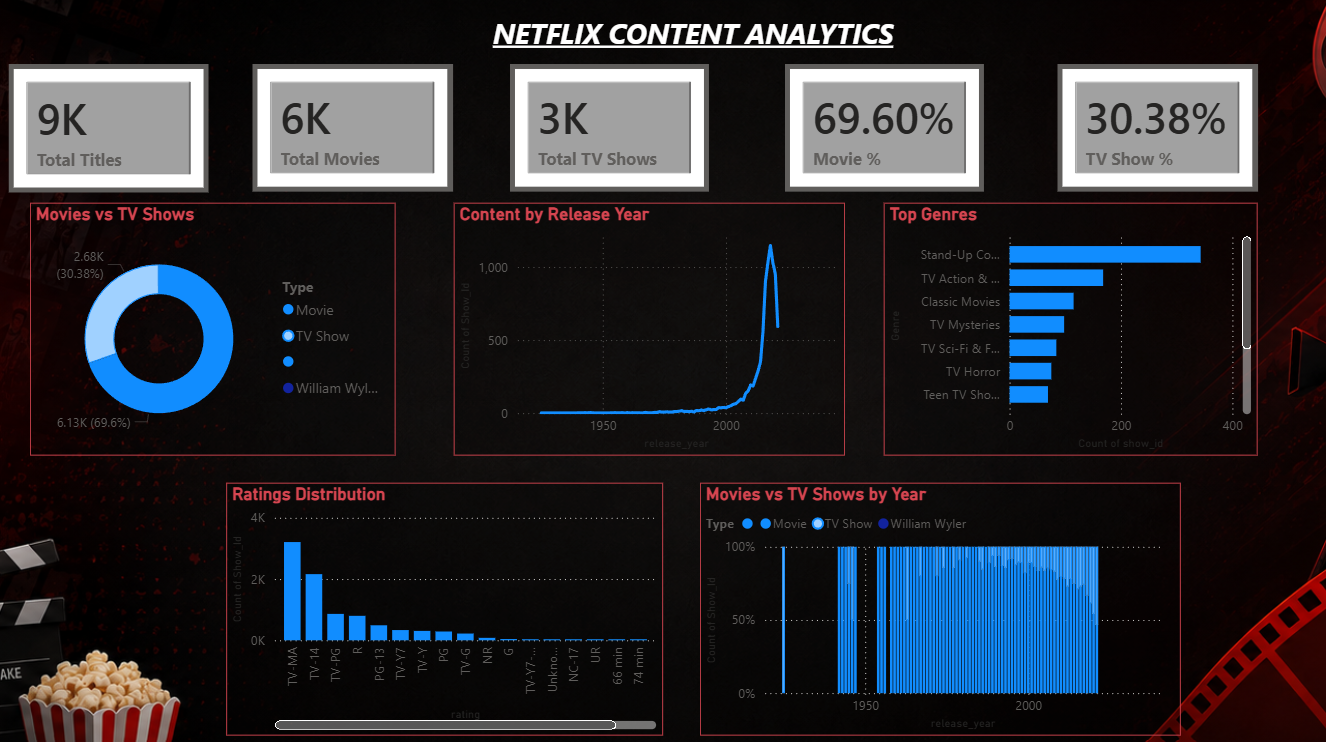

Layout of this report page (visuals, bound fields, positions):
{"tool":"powerbi","page":{"name":"Page 1","canvas":[1280,720],"ordinal":0},"visuals":[{"type":"textbox","box":[470.7,9.6,404.8,63.1],"z":0},{"type":"cardVisual","fields":{"Data":["netflix_titles.Total TV Shows"]},"box":[492.6,63.1,192.1,123.5],"z":1000},{"type":"cardVisual","fields":{"Data":["netflix_titles.Total Movies"]},"box":[244.3,63.1,193.5,123.5],"z":2000},{"type":"cardVisual","fields":{"Data":["netflix_titles.Movie %"]},"box":[757.5,63.1,192.1,123.5],"z":3000},{"type":"cardVisual","fields":{"Data":["netflix_titles.TV Show %"]},"box":[1020.9,63.1,193.5,123.5],"z":4000},{"type":"cardVisual","fields":{"Data":["netflix_titles.Total Titles"]},"box":[8.4,62.7,193,124.3],"z":5000},{"type":"donutChart","title":"Movies vs TV Shows","fields":{"Category":["netflix_titles.type"],"Y":["CountNonNull(netflix_titles.show_id)"]},"box":[28.8,196.2,352.7,244.3],"z":6000},{"type":"lineChart","title":"Content by Release Year","fields":{"Category":["netflix_titles.release_year"],"Y":["CountNonNull(netflix_titles.Show_Id)"]},"box":[437.7,196.2,377.4,244.3],"z":7000},{"type":"barChart","title":"Movies vs TV Shows","fields":{"Category":["Genre.Genre"],"Y":["CountNonNull(Genre.show_id)"]},"box":[853.5,196.2,360.9,244.3],"z":8000},{"type":"clusteredColumnChart","title":"Movies vs TV Shows","fields":{"Category":["netflix_titles.rating"],"Y":["CountNonNull(netflix_titles.Show_Id)"]},"box":[218.2,466.6,421.3,244.3],"z":9000},{"type":"hundredPercentStackedColumnChart","title":"Movies vs TV Shows","fields":{"Category":["netflix_titles.release_year"],"Y":["CountNonNull(netflix_titles.Show_Id)"],"Series":["netflix_titles.Type"]},"box":[675.1,466.6,463.8,244.3],"z":10000}]}

Visuals, with their boxes in screenshot pixels (x1, y1, x2, y2), scaled from the page's 1280x720 canvas onto the 1326x742 screenshot:
textbox: BBox(488, 10, 907, 75)
cardVisual - netflix_titles.Total TV Shows: BBox(510, 65, 709, 192)
cardVisual - netflix_titles.Total Movies: BBox(253, 65, 454, 192)
cardVisual - netflix_titles.Movie %: BBox(785, 65, 984, 192)
cardVisual - netflix_titles.TV Show %: BBox(1058, 65, 1258, 192)
cardVisual - netflix_titles.Total Titles: BBox(9, 65, 209, 193)
"Movies vs TV Shows" donutChart: BBox(30, 202, 395, 454)
"Content by Release Year" lineChart: BBox(453, 202, 844, 454)
"Movies vs TV Shows" barChart: BBox(884, 202, 1258, 454)
"Movies vs TV Shows" clusteredColumnChart: BBox(226, 481, 662, 733)
"Movies vs TV Shows" hundredPercentStackedColumnChart: BBox(699, 481, 1180, 733)
